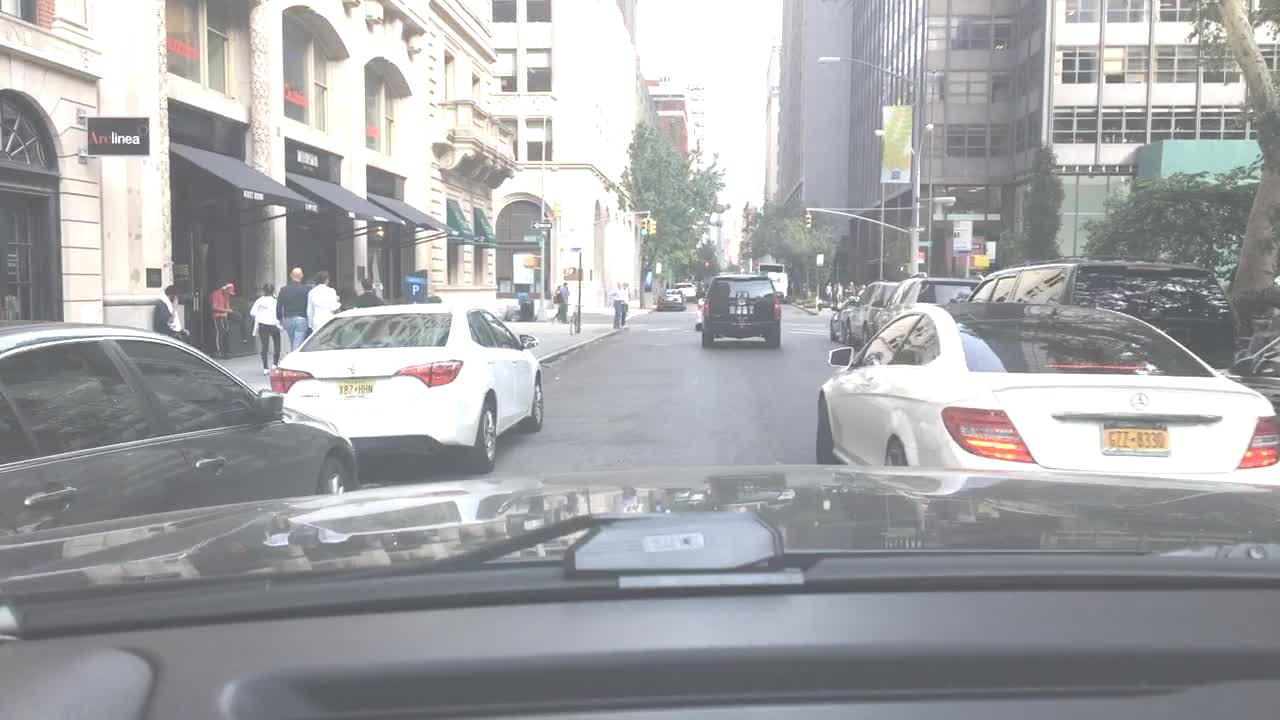Mercedes: (1126, 385, 1161, 418)
Toyota: (342, 361, 367, 376)
